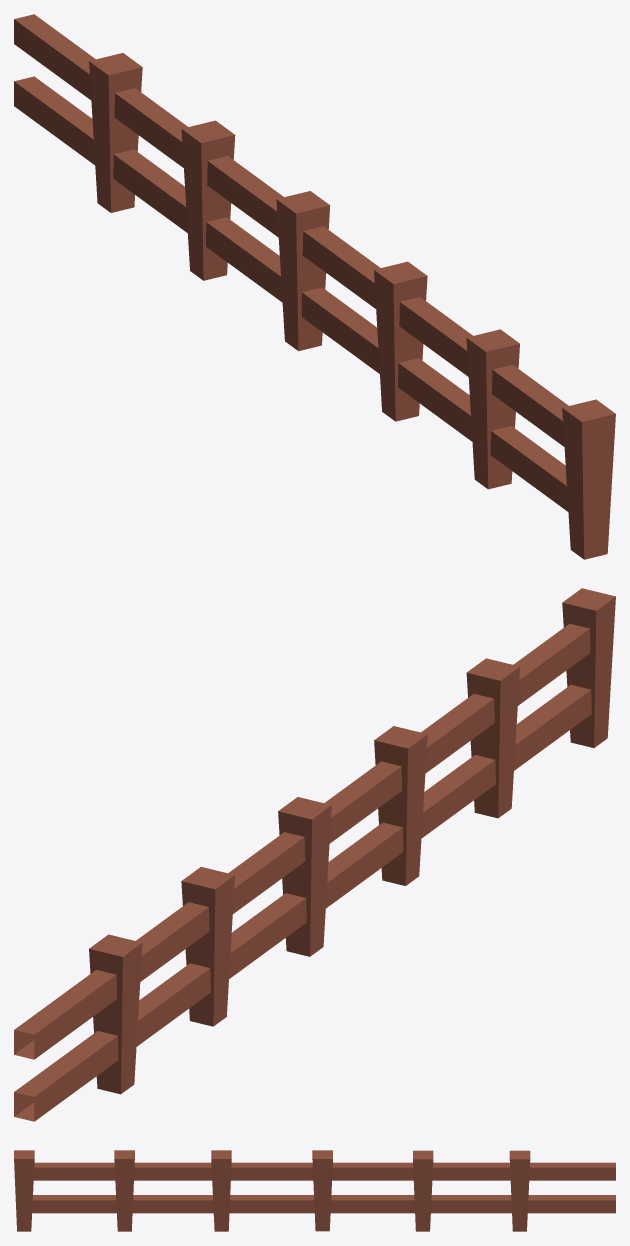
Rendered from barricade.fbx.
3 views of the same model, one above another, from view 1: azimuth 30°, elevation 25°; view 2: azimuth 150°, elevation 25°; view 3: azimuth 270°, elevation 25° (orthographic). The views are drawn at different scales.
Visible parts, largest first — view 1: house; view 2: house; view 3: house.
Boxes of the visible parts, bbox=[...] form: house: bbox=[14, 14, 615, 559]; house: bbox=[14, 588, 615, 1121]; house: bbox=[14, 1150, 615, 1231].
Size of the model in its own units: 6.54 by 25.19 by 186.
